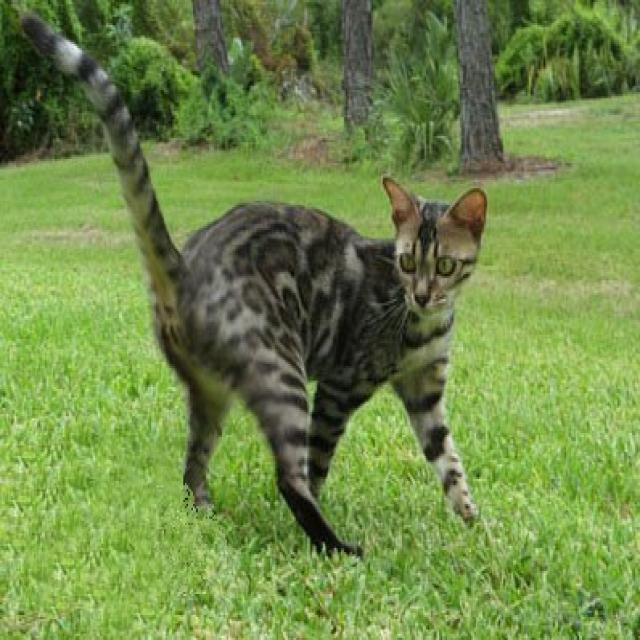Bengal: (381, 174, 484, 314)
